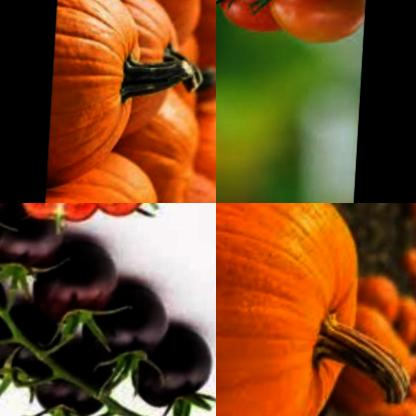pumpkin: (216, 203, 400, 416), (50, 0, 156, 185), (86, 0, 187, 147), (87, 91, 204, 203), (333, 299, 416, 416), (56, 149, 168, 203), (113, 0, 216, 47), (46, 183, 188, 203)
tomato: (90, 279, 178, 380), (34, 250, 126, 340), (128, 327, 216, 416), (0, 211, 79, 299), (18, 356, 122, 416), (252, 0, 365, 47), (0, 321, 68, 397), (17, 203, 101, 236), (84, 203, 192, 224), (216, 0, 288, 31)
